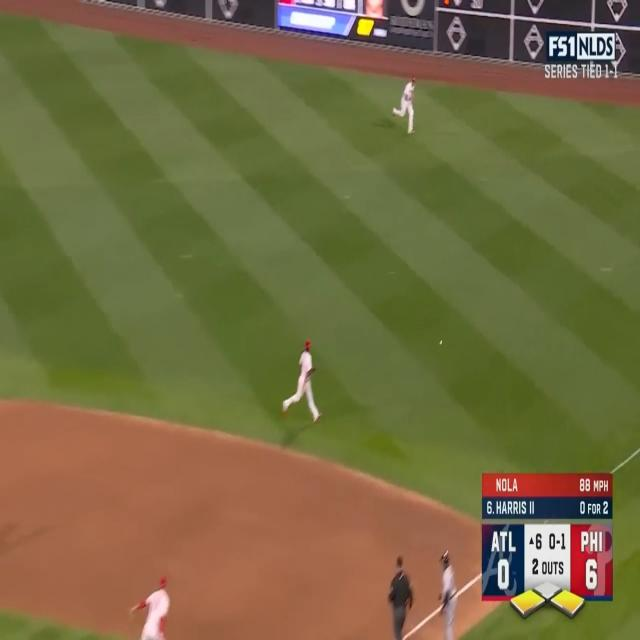baseball: (439, 340, 443, 345)
